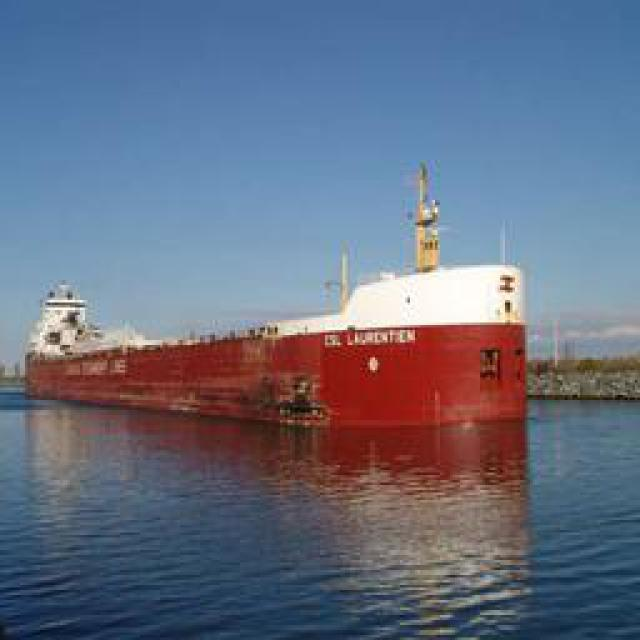Ship: (31, 166, 539, 426)
